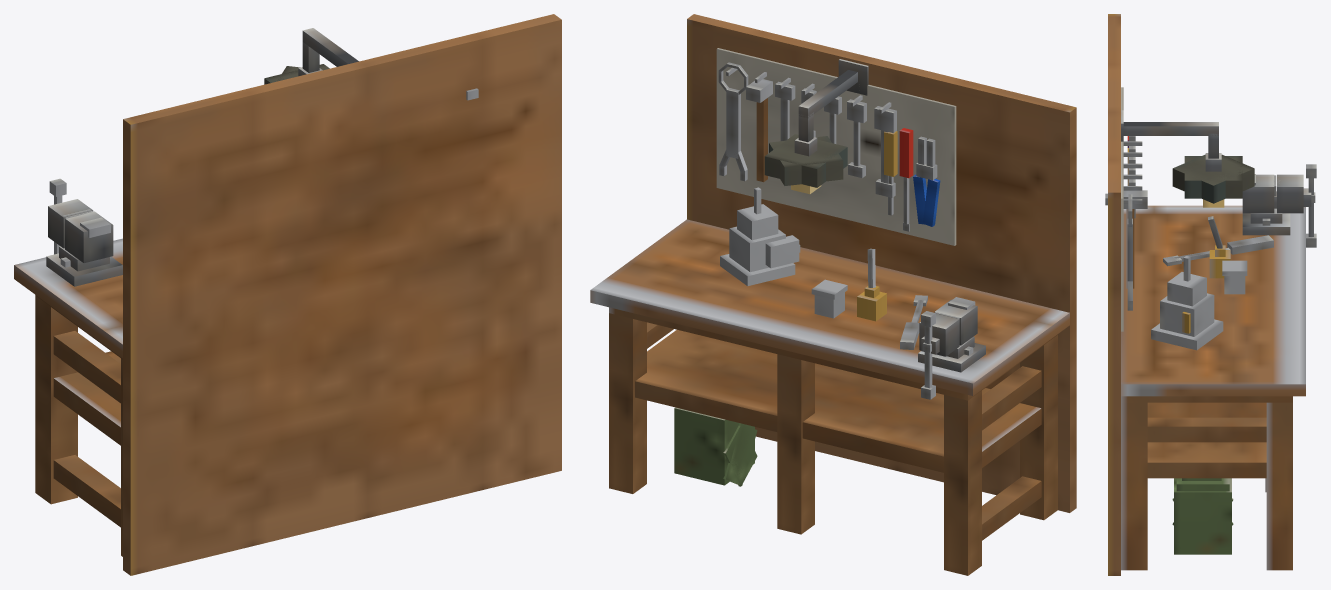
The model's file is mechanic_workbench.obj.
The picture shows the model from 3 angles, left to right: view 1: azimuth 30°, elevation 25°; view 2: azimuth 150°, elevation 25°; view 3: azimuth 270°, elevation 25°; orthographic projection. The views are drawn at different scales.
Visible parts, largest first — view 1: wall_planks, frame_5, tabletop_metal, frame_14, frame_13, frame_12, vise_fixed_jaw_body, vise_base_flange, vise_sliding_jaw, lamp_cantilever_beam; view 2: wall_planks, tabletop_metal, frame_14, pegboard_sheet, frame_5, frame_2, frame_15, frame_1, jerry_body, frame_3, lamp_shade_Z, frame_12 (+19 smaller); view 3: tabletop_metal, wall_planks, frame_14, frame_6, frame_2, jerry_body, frame_11, lamp_shade_X, carb_throttle_body, lamp_shade_Z, lamp_cantilever_beam, frame_3 (+16 smaller).
Part boxes in pixels (x1,y1,x2,y2): wall_planks: (123, 14, 561, 575); frame_5: (35, 296, 77, 504); tabletop_metal: (14, 238, 122, 358); frame_14: (53, 351, 120, 445); frame_13: (53, 455, 120, 527); frame_12: (53, 331, 120, 403); vise_fixed_jaw_body: (65, 211, 113, 262); vise_base_flange: (46, 253, 122, 286); vise_sliding_jaw: (48, 199, 93, 248); lamp_cantilever_beam: (302, 28, 358, 66); wall_planks: (687, 14, 1076, 512); tabletop_metal: (590, 219, 1069, 395); frame_14: (635, 329, 1041, 472); pegboard_sheet: (716, 48, 956, 245); frame_5: (944, 391, 981, 575); frame_2: (609, 313, 646, 493); frame_15: (777, 354, 814, 534); frame_1: (1020, 335, 1057, 520); jerry_body: (674, 407, 754, 485); frame_3: (609, 307, 1057, 400); lamp_shade_Z: (764, 134, 847, 187); frame_12: (982, 366, 1041, 430); tabletop_metal: (1121, 205, 1305, 396); wall_planks: (1108, 14, 1120, 575); frame_14: (1147, 402, 1266, 478); frame_6: (1121, 402, 1147, 570); frame_2: (1266, 402, 1292, 570); jerry_body: (1174, 478, 1231, 554); frame_11: (1147, 417, 1266, 442); lamp_shade_X: (1172, 154, 1254, 203); carb_throttle_body: (1160, 293, 1214, 336); lamp_shade_Z: (1184, 156, 1242, 198); lamp_cantilever_beam: (1123, 122, 1218, 135); frame_3: (1121, 396, 1292, 402).
Size of the model in its own units: 2 by 2.06 by 1.
